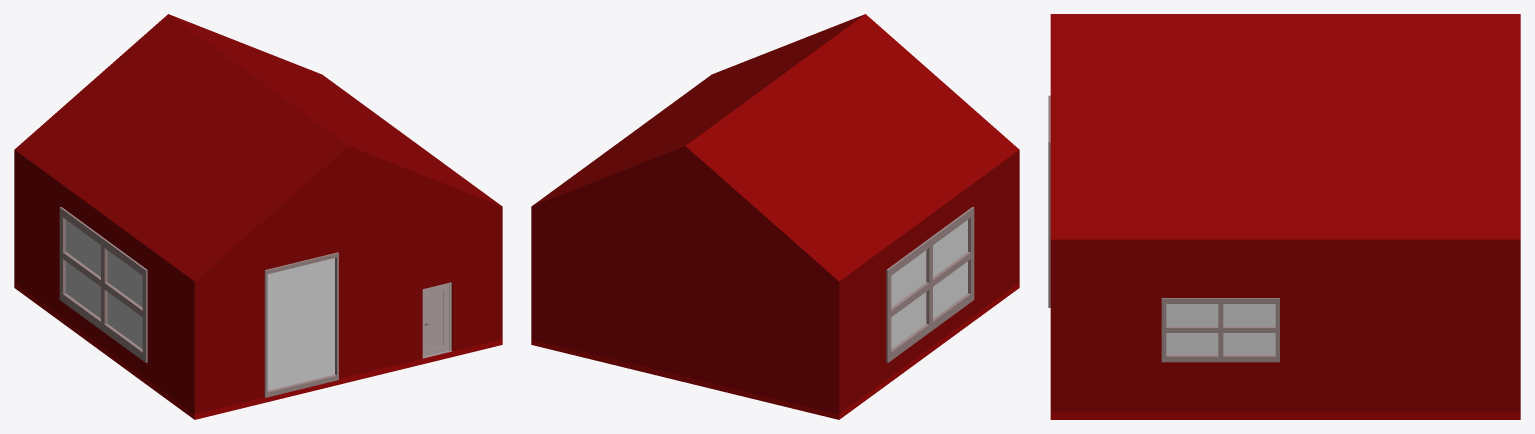
Rendered from House_14.fbx.
The picture shows the model from 3 angles, left to right: view 1: azimuth 30°, elevation 25°; view 2: azimuth 150°, elevation 25°; view 3: azimuth 270°, elevation 25°; orthographic projection. The views are drawn at different scales.
Parts seen in each view (by area): view 1: House_14_Body, House_14_Window, House_14_Window.002, House_14_Door; view 2: House_14_Body, House_14_Window.002; view 3: House_14_Body, House_14_Window.001.
Part boxes in pixels (x1,y1,x2,y2): House_14_Body: (14,14,502,419); House_14_Window: (267,258,334,390); House_14_Window.002: (63,220,142,348); House_14_Door: (422,282,451,357); House_14_Body: (531,14,1019,419); House_14_Window.002: (891,220,970,348); House_14_Body: (1048,14,1520,419); House_14_Window.001: (1166,304,1275,356).
Size of the model in its own units: 1030 by 748 by 1039.
